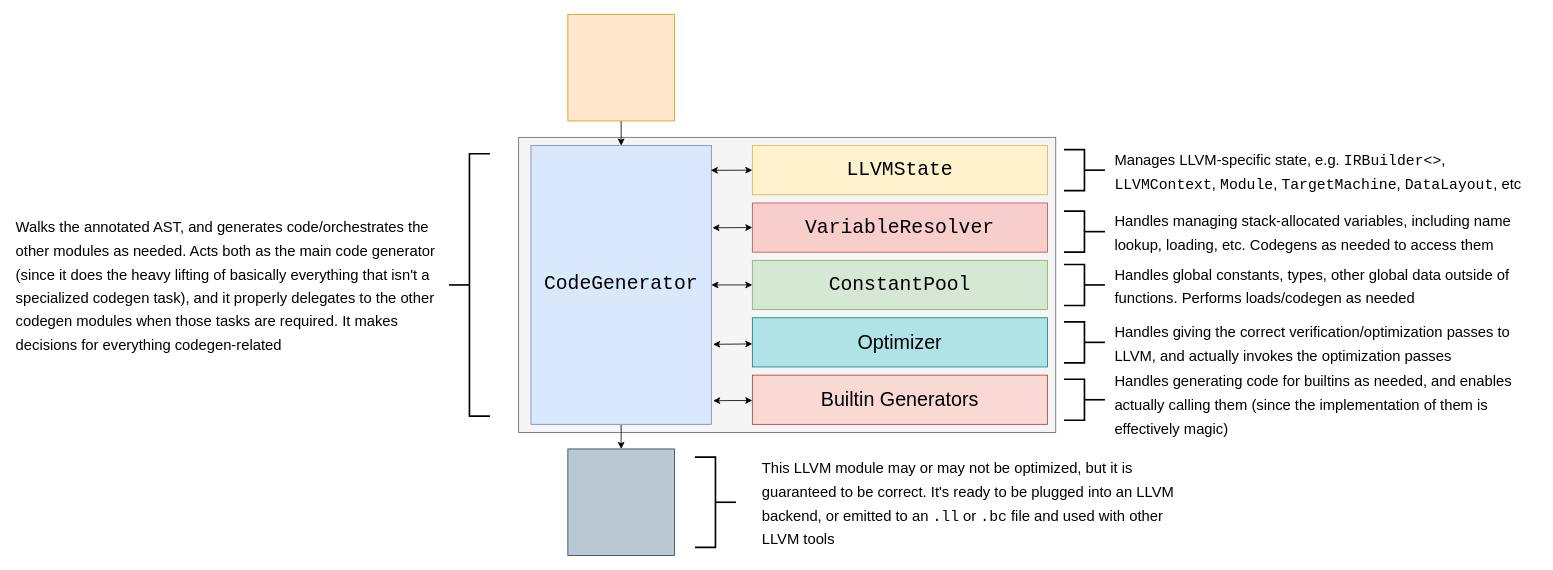
The diagram is 1553 pixels wide and 570 high, and some of its shapes have lost their labels. Each missing label, with the centre of its shape:
Annotated AST: point (620, 67)
LLVM Module: point (620, 502)
